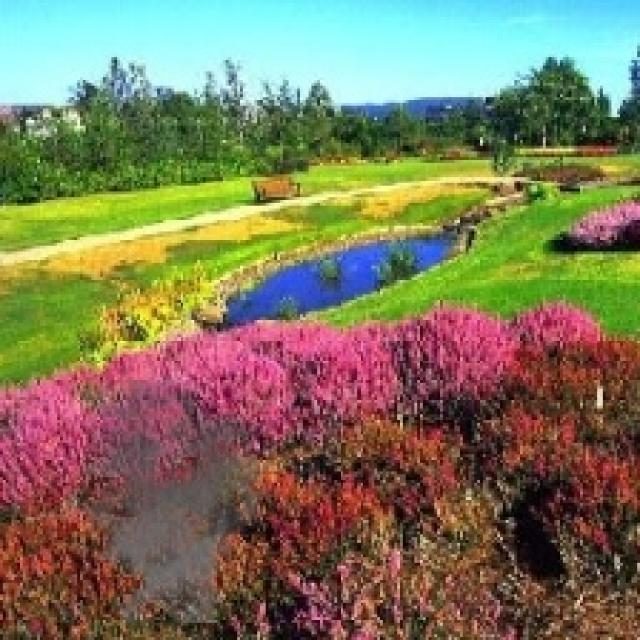smoke: (60, 374, 274, 623)
